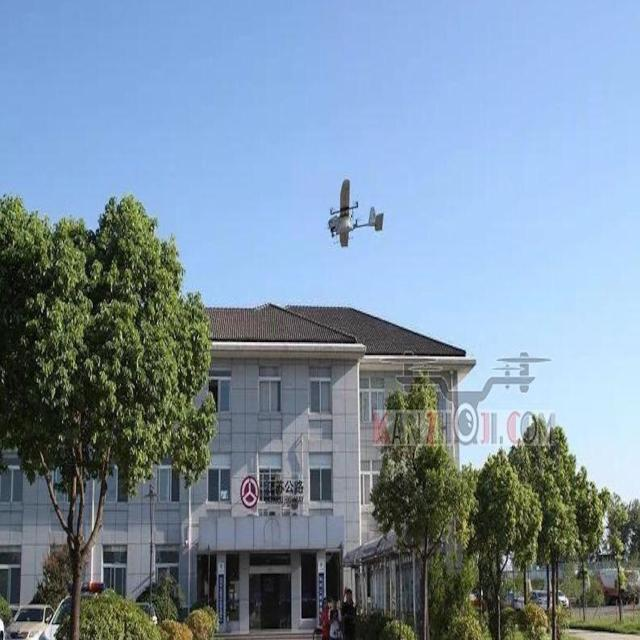iha: (329, 213, 385, 215)
